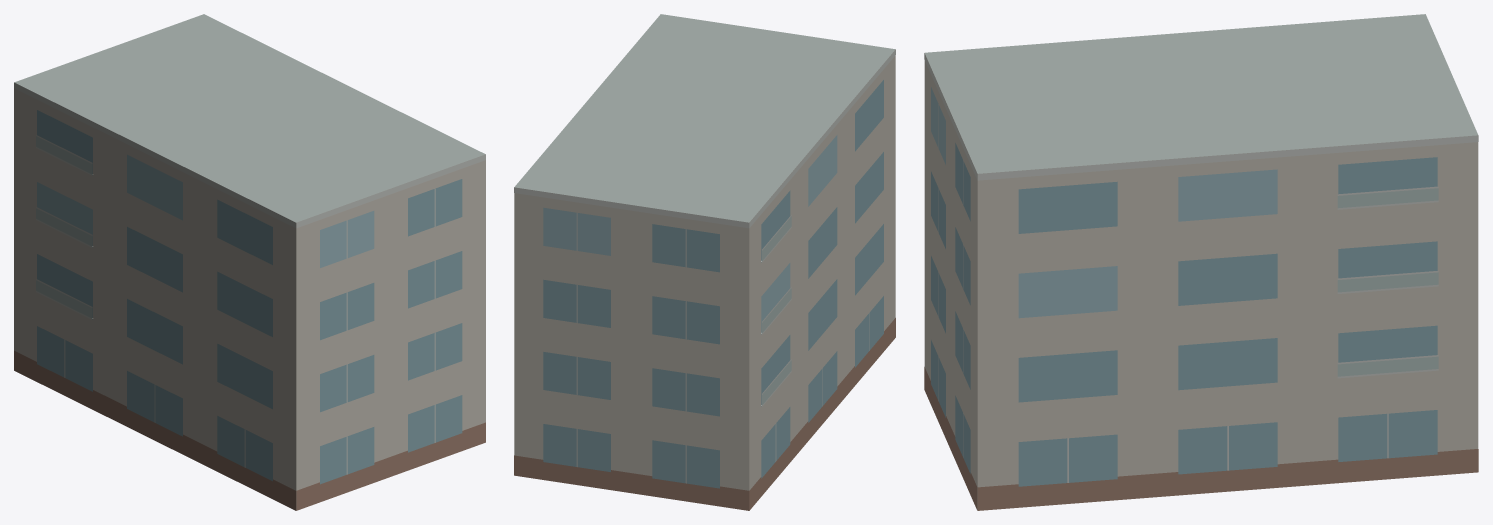
Rendered from survey-upis-32697696.glb.
3 views of the same model, side by side, from view 1: azimuth 30°, elevation 25°; view 2: azimuth 150°, elevation 25°; view 3: azimuth 270°, elevation 25° (orthographic). The views are drawn at different scales.
Visible parts, largest first — view 1: survey-upis-32697696.tmp; view 2: survey-upis-32697696.tmp; view 3: survey-upis-32697696.tmp.
Part boxes in pixels (x1,y1,x2,y2): survey-upis-32697696.tmp: [14, 14, 485, 510]; survey-upis-32697696.tmp: [514, 14, 895, 510]; survey-upis-32697696.tmp: [924, 14, 1478, 510].
Bounding box in the file's own units: 12.42 × 12.2 × 18.19.
